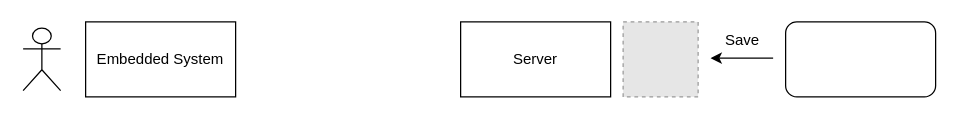
Some shapes in this 958 by 139 pixel diagram are drawn without their labels. Grey dashed boxes stand in for pictures. Here are the shapes that lost their labels. From the top down, the centre of each, then its label:
(x=41, y=59): Porter
(x=860, y=59): "portariaID": "001", "evento": "1", "createdAt": 4871623
